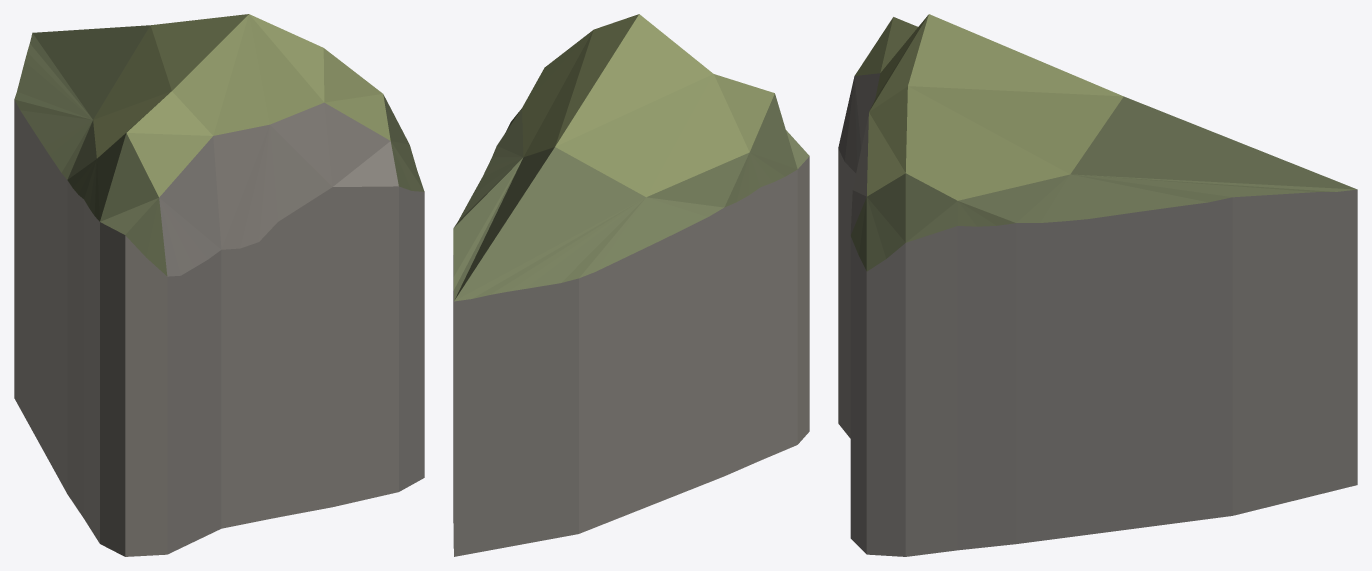
The model's file is cliff_western_slab.glb.
The picture shows the model from 3 angles, left to right: view 1: azimuth 30°, elevation 25°; view 2: azimuth 150°, elevation 25°; view 3: azimuth 270°, elevation 25°; orthographic projection. The views are drawn at different scales.
Visible parts, largest first — view 1: cliff_western_slab; view 2: cliff_western_slab; view 3: cliff_western_slab.
Part boxes in pixels (<box>): cliff_western_slab: <box>14,14,424,556</box>; cliff_western_slab: <box>453,14,809,556</box>; cliff_western_slab: <box>838,14,1357,556</box>.
Bounding box in the file's own units: 55.6 × 80 × 79.97.
